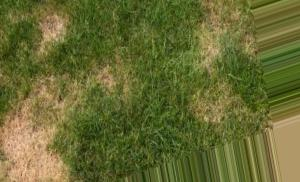patch: (7, 112, 65, 179), (209, 85, 234, 121), (43, 17, 71, 49)
